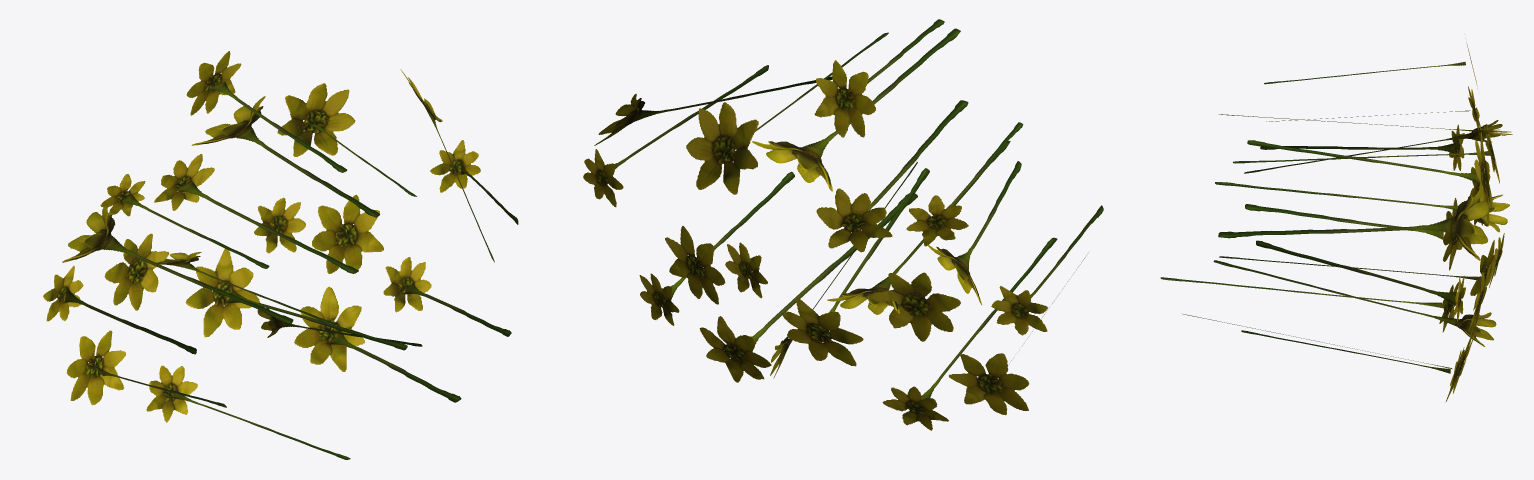
Rendered from WildFlowers_Grp_01.fbx.
3 views of the same model, side by side, from view 1: azimuth 30°, elevation 25°; view 2: azimuth 150°, elevation 25°; view 3: azimuth 270°, elevation 25° (orthographic). The views are drawn at different scales.
Visible parts, largest first — view 1: WildFlowers_Grp_01; view 2: WildFlowers_Grp_01; view 3: WildFlowers_Grp_01.
Part boxes in pixels (<box>): WildFlowers_Grp_01: <box>43,51,518,459</box>; WildFlowers_Grp_01: <box>583,19,1103,430</box>; WildFlowers_Grp_01: <box>1160,38,1512,402</box>.
Bounding box in the file's own units: 3.48 × 2.79 × 2.45.
